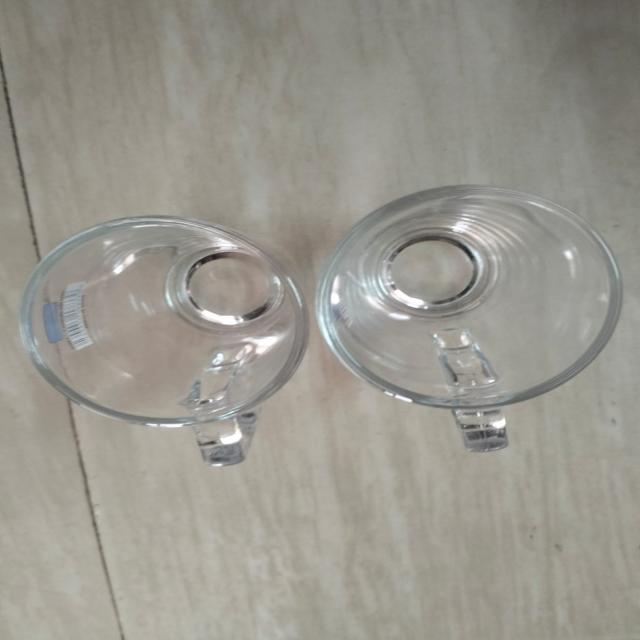glass-VX4N: (311, 187, 624, 458), (21, 211, 310, 464)
